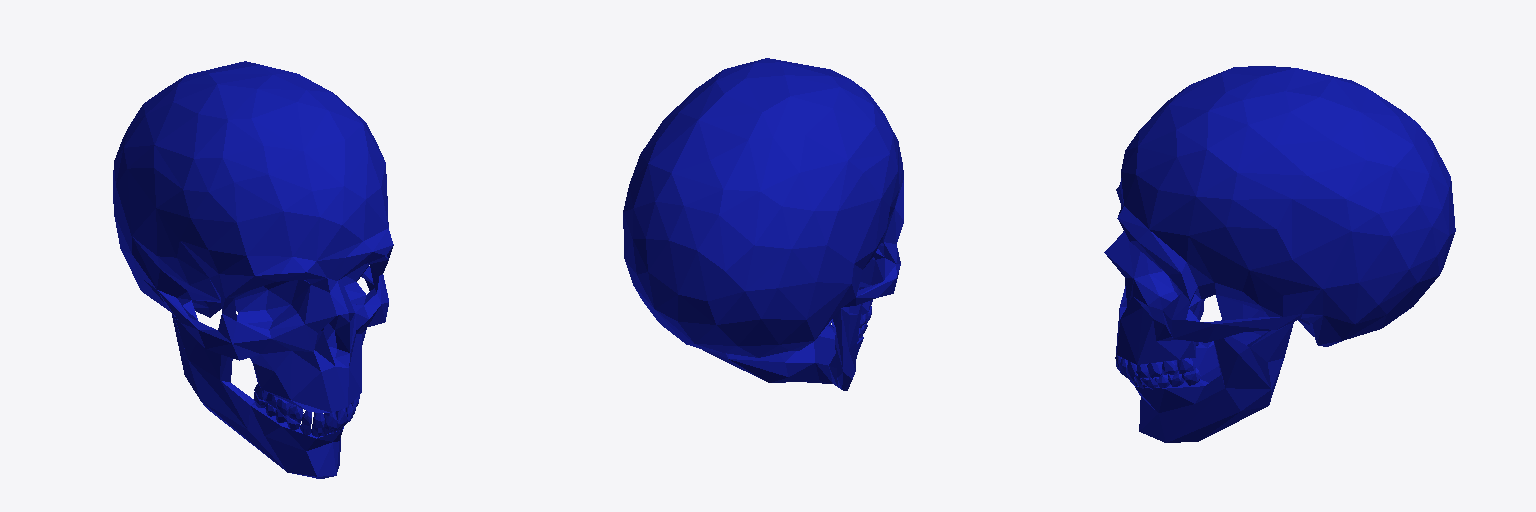
Rendered from skull.obj.
3 renders of one model, left to right at view 1: azimuth 30°, elevation 25°; view 2: azimuth 150°, elevation 25°; view 3: azimuth 270°, elevation 25°, orthographic.
Parts seen in each view (by area): view 1: Jowl, Group55645, Teeth_1, Teath_2; view 2: Jowl, Group55645; view 3: Jowl, Group55645, Teeth_1, Teath_2.
Boxes of the visible parts, box(x1,y1,x2,y2) form: Jowl: box(113, 61, 393, 412); Group55645: box(171, 300, 343, 478); Teeth_1: box(254, 383, 359, 429); Teath_2: box(254, 392, 346, 437); Jowl: box(623, 58, 903, 357); Group55645: box(703, 287, 864, 390); Jowl: box(1104, 66, 1455, 364); Group55645: box(1135, 295, 1293, 442); Teeth_1: box(1115, 353, 1194, 378); Teath_2: box(1125, 342, 1200, 389).
Size of the model in its own units: 139 by 219 by 198.